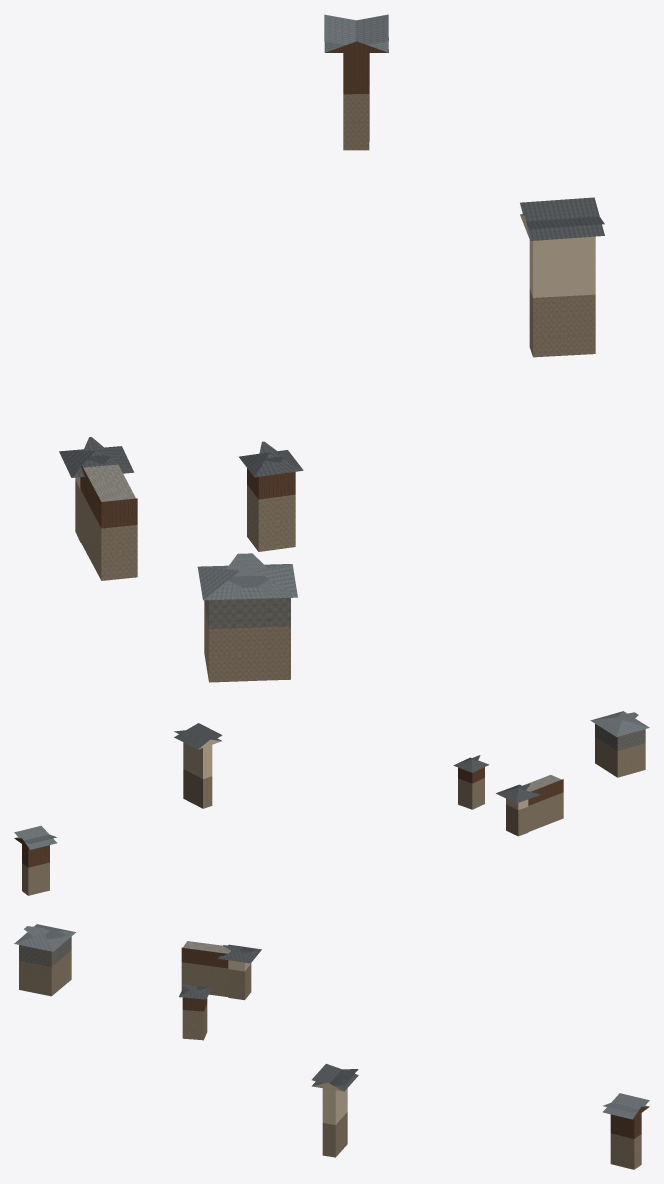
File: bld_c21_43_378.gltf
3 views of the same model, one above another, from view 1: azimuth 30°, elevation 25°; view 2: azimuth 150°, elevation 25°; view 3: azimuth 270°, elevation 25° (orthographic). The views are drawn at different scales.
Visible parts, largest first — view 1: bld_c21_43_378; view 2: bld_c21_43_378; view 3: bld_c21_43_378.
Boxes of the visible parts, box(x1,y1,x2,y2) form: bld_c21_43_378: box(59, 14, 604, 682); bld_c21_43_378: box(14, 711, 649, 895); bld_c21_43_378: box(14, 924, 649, 1169).
Size of the model in its own units: 65.49 by 11.8 by 90.29.
9 materials, 9 textured.
